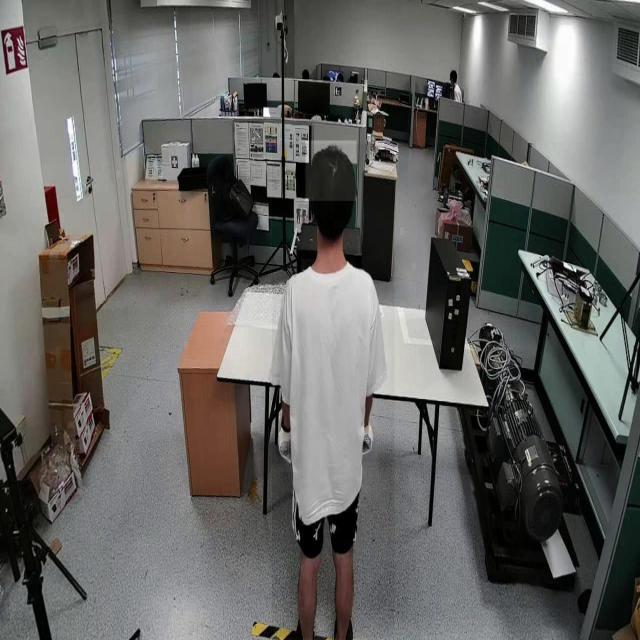hand_glove: (272, 408, 297, 473), (361, 417, 379, 462)
head_nohelmet: (305, 140, 357, 202), (450, 68, 457, 76)
person: (272, 144, 395, 639)
